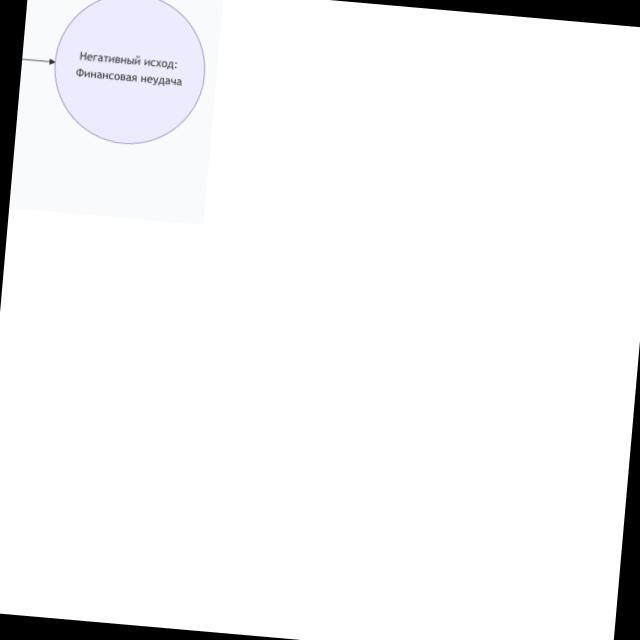circle: (55, 0, 205, 143)
